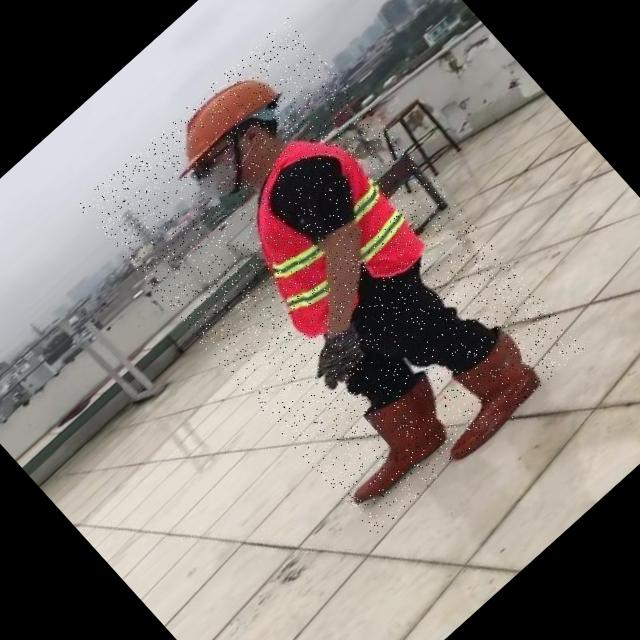hard_hat: (158, 56, 282, 175)
safety_vest: (202, 115, 434, 348)
vehicle: (76, 15, 585, 536)
work_boots: (319, 369, 466, 512), (408, 323, 554, 466)
